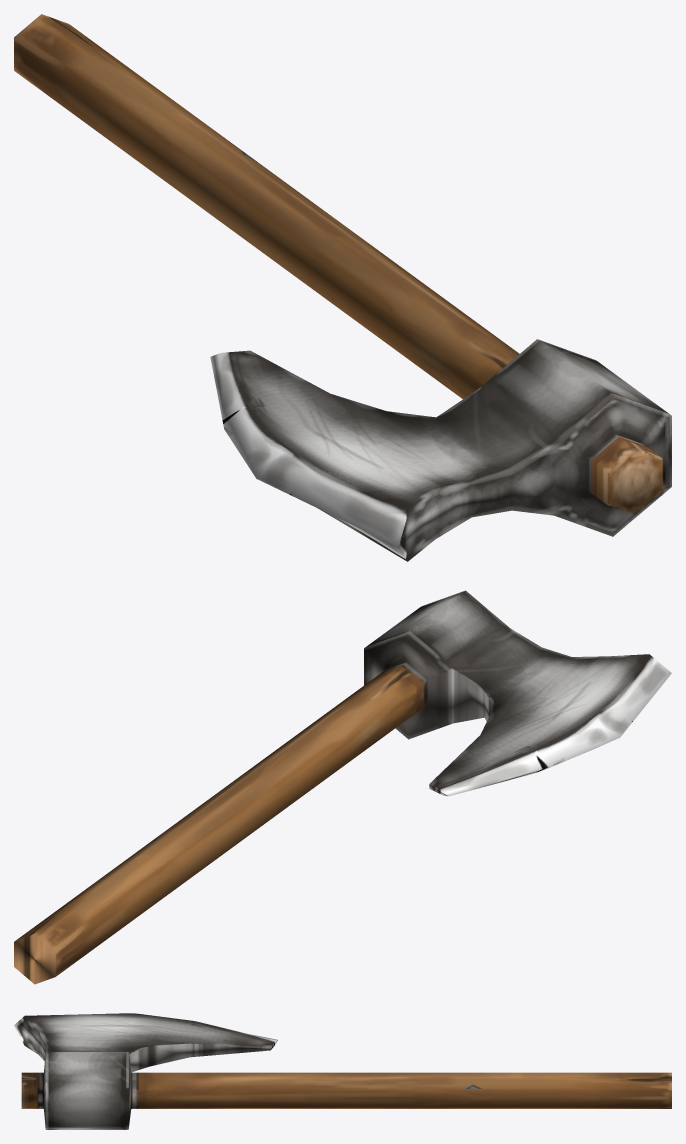
File: AxeA.fbx
3 views of the same model, one above another, from view 1: azimuth 30°, elevation 25°; view 2: azimuth 150°, elevation 25°; view 3: azimuth 270°, elevation 25° (orthographic). The views are drawn at different scales.
Visible parts, largest first — view 1: AxeA; view 2: AxeA; view 3: AxeA.
Boxes of the visible parts, x1,y1,x2,y2 form: AxeA: (14,14,671,561); AxeA: (14,590,671,984); AxeA: (14,1013,671,1129).
Size of the model in its own units: 7.4 by 2.96 by 22.65.
